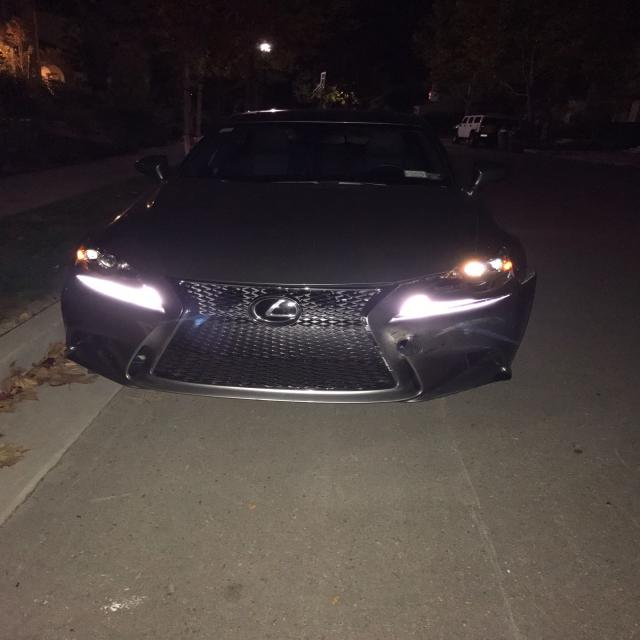scratch: (382, 316, 519, 356)
